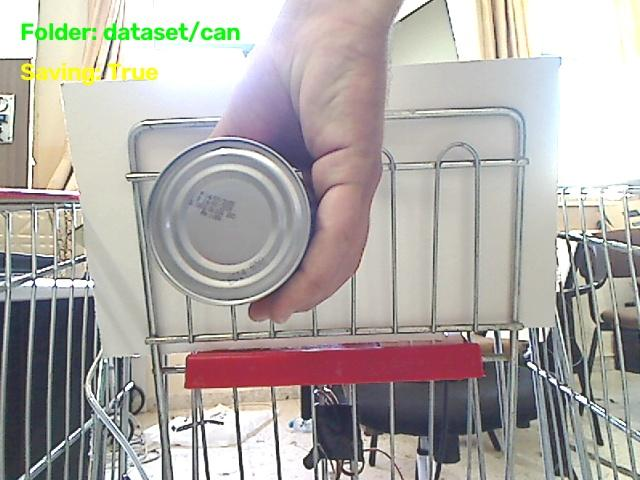can: (145, 137, 310, 304)
